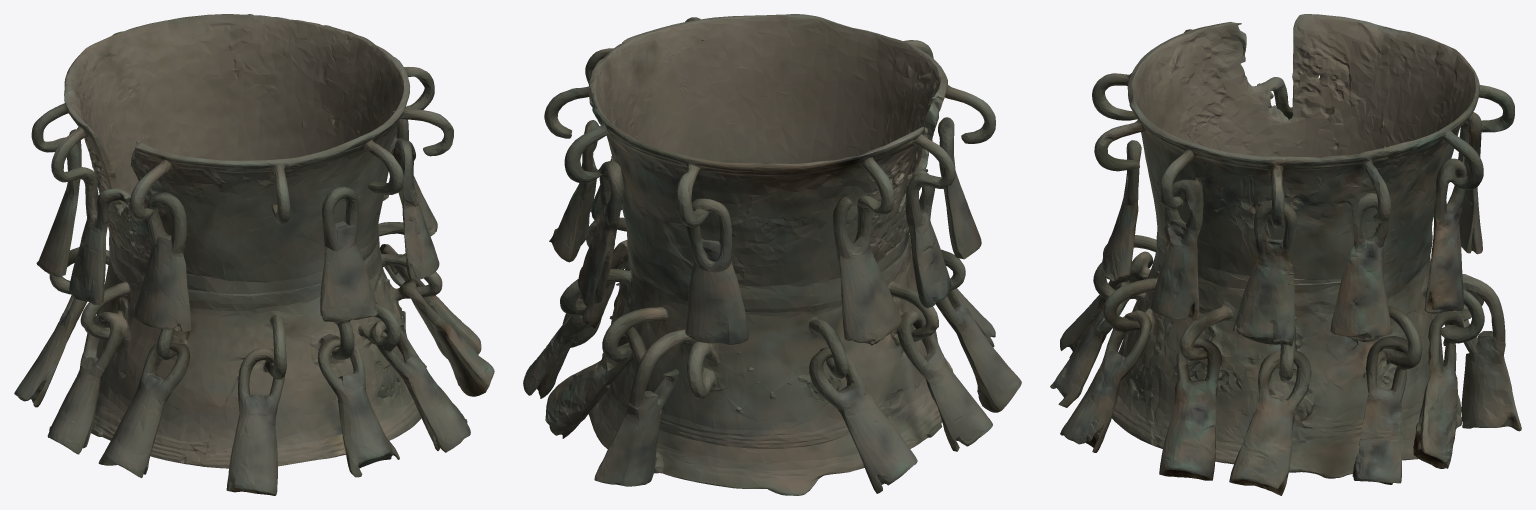
The model's file is vanlang7.glb.
The picture shows the model from 3 angles, left to right: view 1: azimuth 30°, elevation 25°; view 2: azimuth 150°, elevation 25°; view 3: azimuth 270°, elevation 25°; orthographic projection. The views are drawn at different scales.
Visible parts, largest first — view 1: tripo_node_cd75d712-cfab-4bb6-9db7-d7c86400c5eb; view 2: tripo_node_cd75d712-cfab-4bb6-9db7-d7c86400c5eb; view 3: tripo_node_cd75d712-cfab-4bb6-9db7-d7c86400c5eb.
Boxes of the visible parts, x1,y1,x2,y2 form: tripo_node_cd75d712-cfab-4bb6-9db7-d7c86400c5eb: [14, 14, 494, 495]; tripo_node_cd75d712-cfab-4bb6-9db7-d7c86400c5eb: [523, 14, 1021, 495]; tripo_node_cd75d712-cfab-4bb6-9db7-d7c86400c5eb: [1050, 14, 1521, 495].
Size of the model in its own units: 0.9995 by 0.7552 by 0.9764.
1 material, 1 textured.
